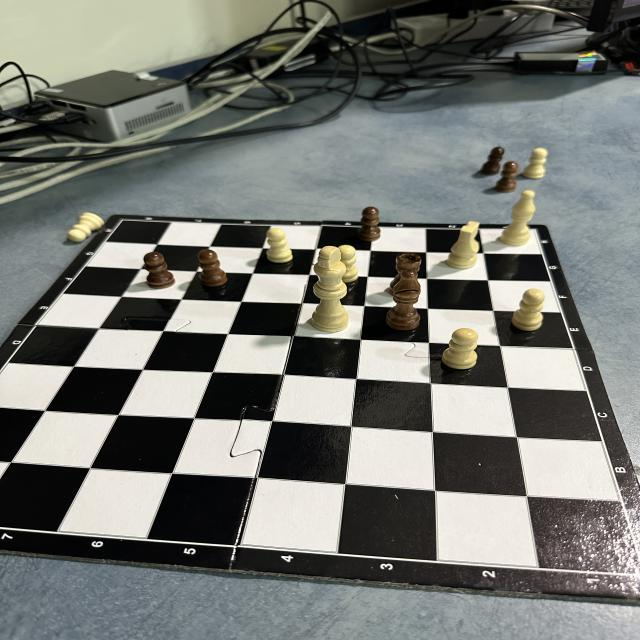Black-Bishop: (383, 270, 420, 329)
Black-Pawn: (145, 252, 176, 289), (198, 249, 226, 288), (358, 206, 382, 241), (496, 161, 518, 193), (482, 145, 504, 174)
Black-Rook: (389, 252, 421, 297)
White-Bishop: (502, 190, 536, 246)
White-King: (312, 245, 349, 332)
White-Knight: (448, 220, 481, 270)
White-Pawn: (514, 288, 547, 332), (444, 328, 478, 370), (67, 212, 105, 244), (267, 229, 293, 263), (524, 146, 548, 180), (338, 244, 358, 283)
